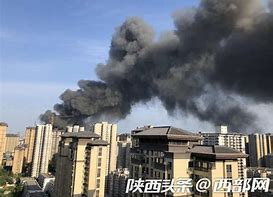smoke: (42, 1, 273, 120)
